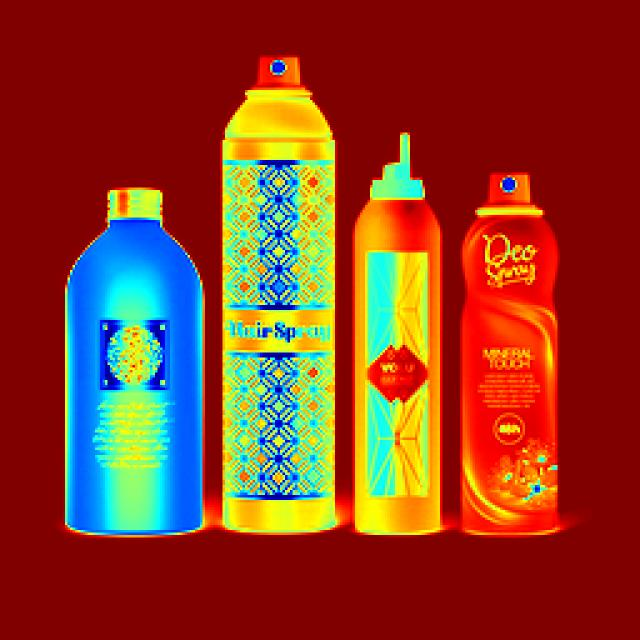Aerosol Cans: (215, 36, 346, 536), (66, 151, 215, 560), (454, 156, 566, 536), (352, 92, 448, 530)
